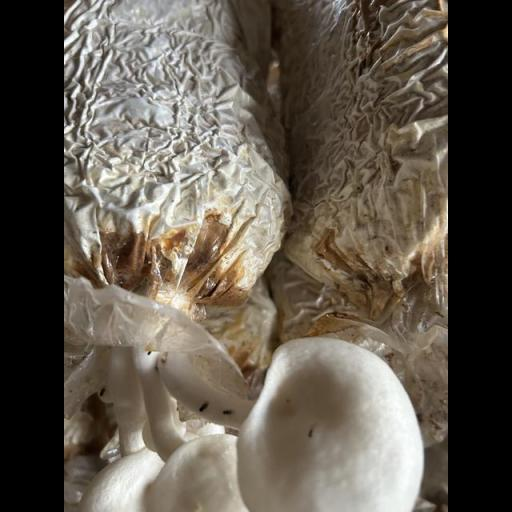White Oyster Mushroom: (68, 275, 431, 512)
